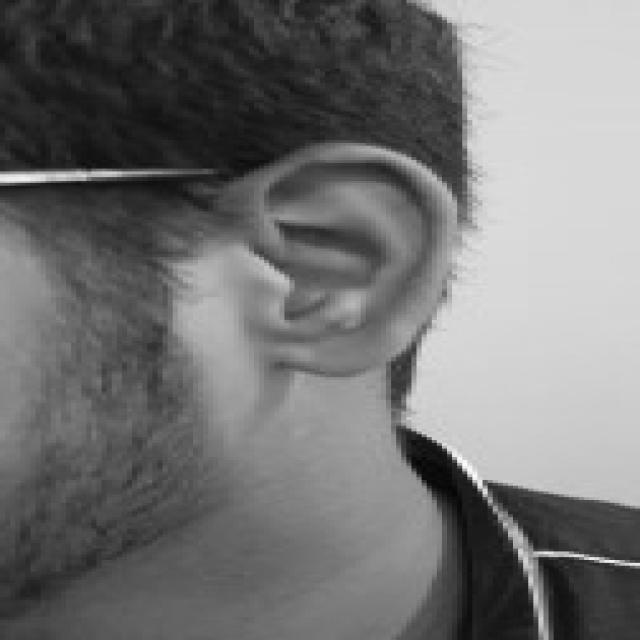ear: (223, 140, 452, 371)
